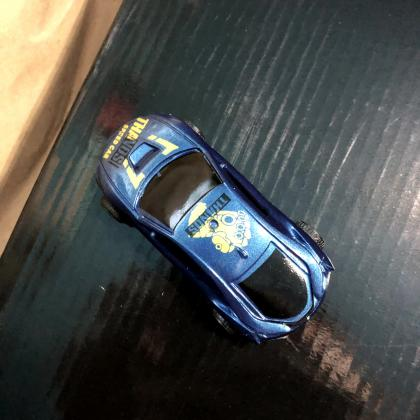Car: (94, 114, 334, 347)
